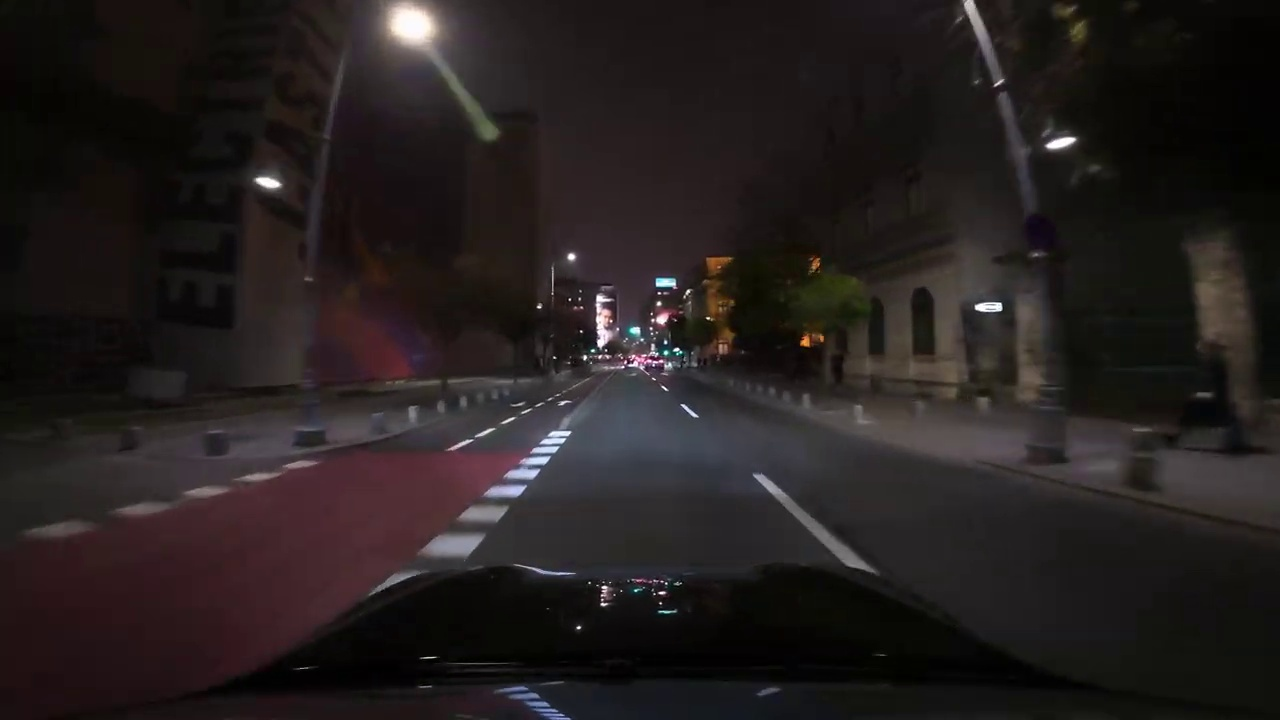acesa: (385, 7, 436, 49), (561, 248, 581, 269)
